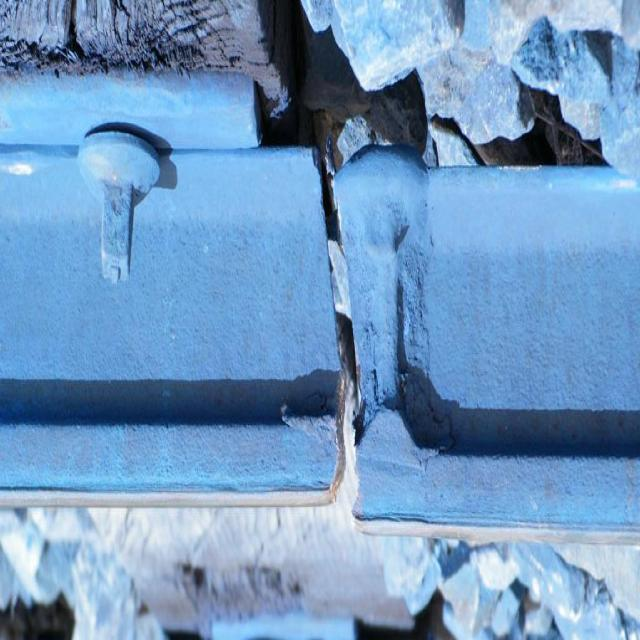broken_rail_high: (306, 142, 374, 528)
